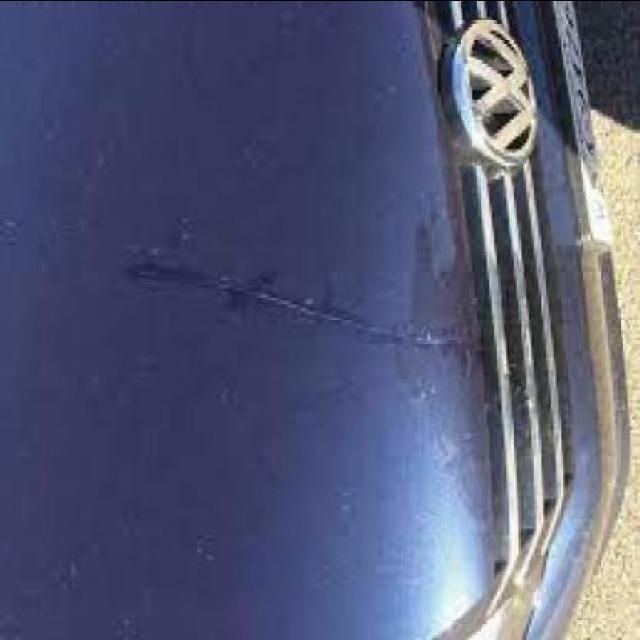bonnet-dent: (8, 3, 569, 640)
